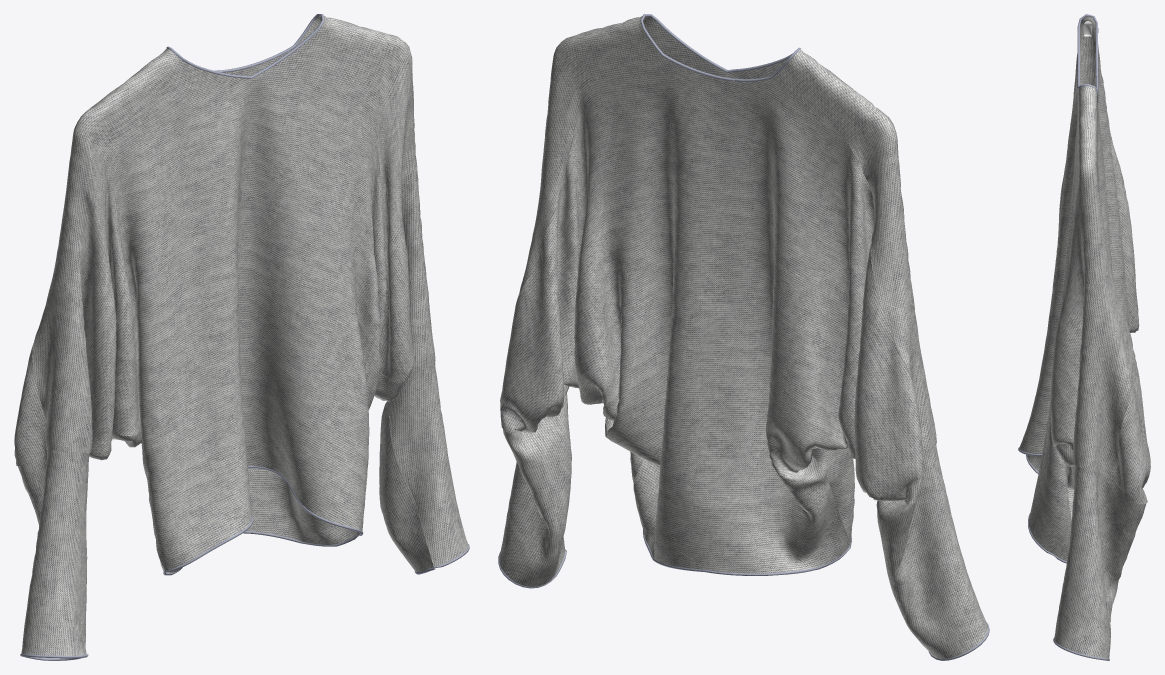
The model's file is fullsleeveshirt.glb.
The picture shows the model from 3 angles, left to right: view 1: azimuth 30°, elevation 25°; view 2: azimuth 150°, elevation 25°; view 3: azimuth 270°, elevation 25°; orthographic projection. The views are drawn at different scales.
Parts seen in each view (by area): view 1: shirt_dolmanv1_39kpolys; view 2: shirt_dolmanv1_39kpolys; view 3: shirt_dolmanv1_39kpolys.
Part boxes in pixels (x1,y1,x2,y2): shirt_dolmanv1_39kpolys: [14, 14, 469, 660]; shirt_dolmanv1_39kpolys: [498, 14, 989, 660]; shirt_dolmanv1_39kpolys: [1018, 14, 1150, 660].
Bounding box in the file's own units: 54.71 × 67.03 × 15.14.
4 materials, 2 textured.
